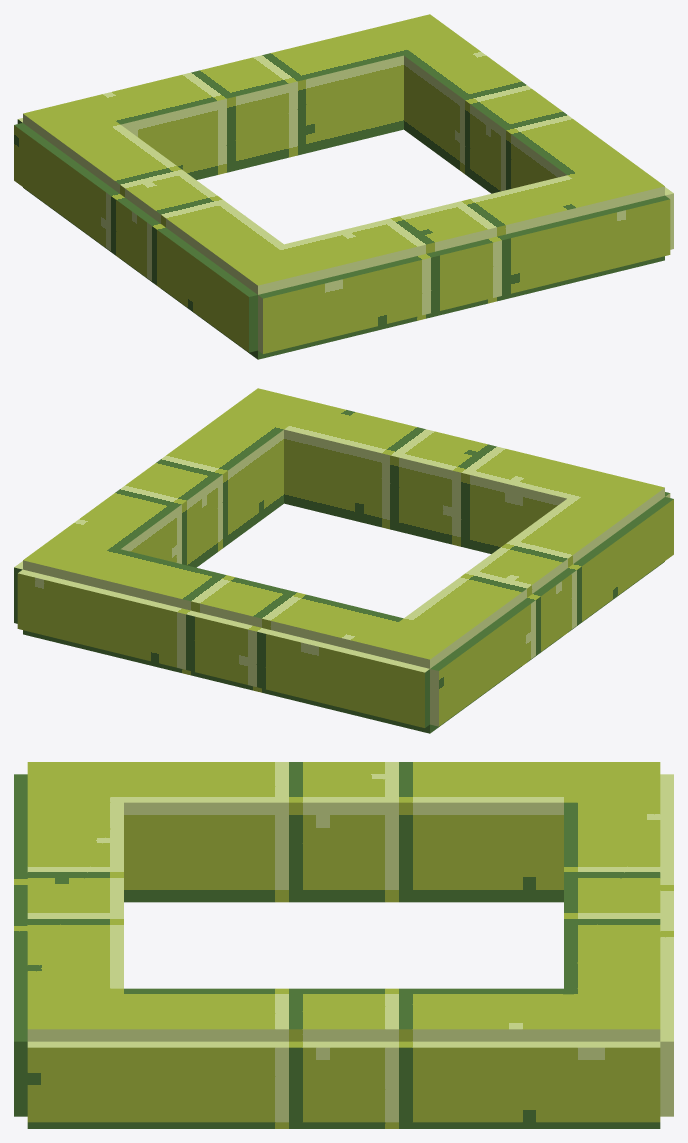
File: sewer_lesser_gateao.fezao.glb
The picture shows the model from 3 angles, top to bottom: view 1: azimuth 30°, elevation 25°; view 2: azimuth 150°, elevation 25°; view 3: azimuth 270°, elevation 25°; orthographic projection. The views are drawn at different scales.
Parts seen in each view (by area): view 1: SEWER_LESSER_GATEAO; view 2: SEWER_LESSER_GATEAO; view 3: SEWER_LESSER_GATEAO.
Boxes of the visible parts, x1,y1,x2,y2 form: SEWER_LESSER_GATEAO: (14,14,673,359); SEWER_LESSER_GATEAO: (14,388,673,733); SEWER_LESSER_GATEAO: (14,762,673,1128).
Size of the model in its own units: 3 by 0.5 by 3.
1 material, 1 textured.
